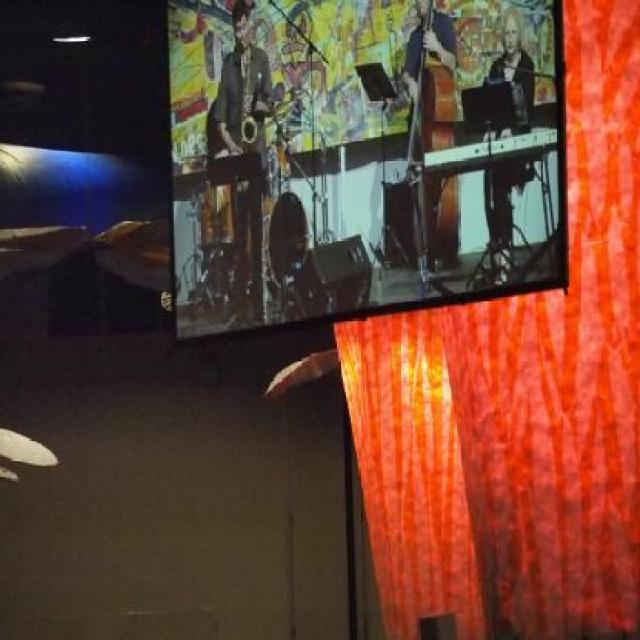Person: (212, 0, 277, 325), (473, 8, 536, 288), (401, 0, 460, 135)
